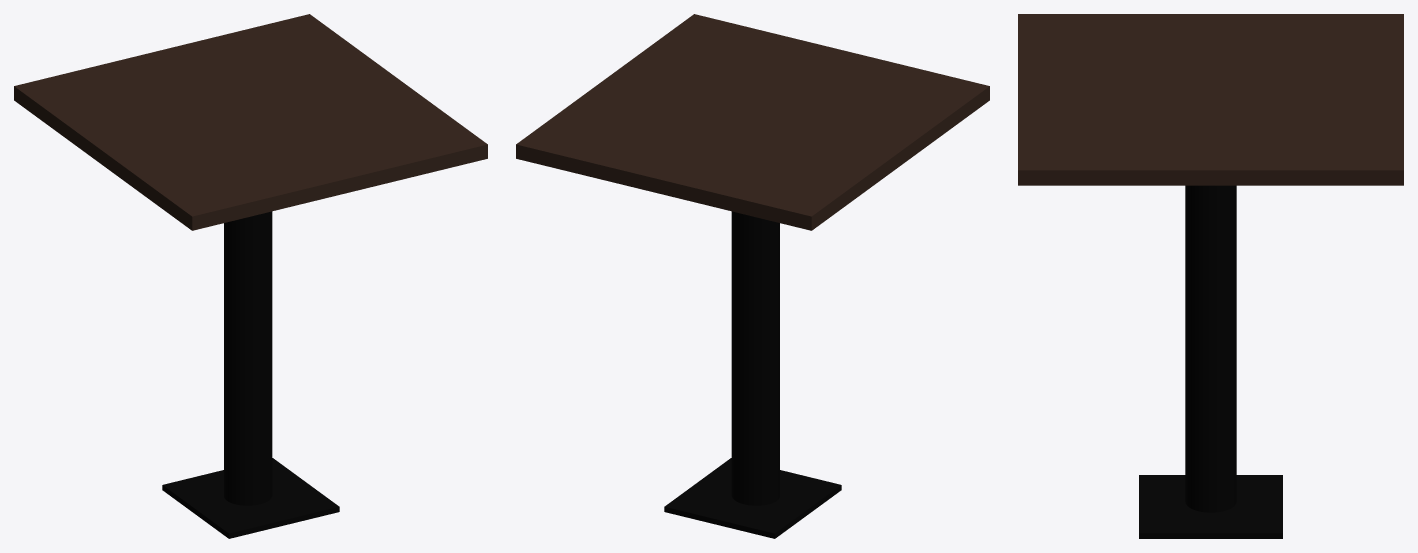
Rendered from Mesa.fbx.
3 views of the same model, side by side, from view 1: azimuth 30°, elevation 25°; view 2: azimuth 150°, elevation 25°; view 3: azimuth 270°, elevation 25° (orthographic). The views are drawn at different scales.
Parts seen in each view (by area): view 1: table; view 2: table; view 3: table.
Boxes of the visible parts, bbox=[...] form: table: bbox=[14, 14, 487, 538]; table: bbox=[516, 14, 989, 538]; table: bbox=[1018, 14, 1403, 538].
Bounding box in the file's own units: 291 × 363 × 304.
